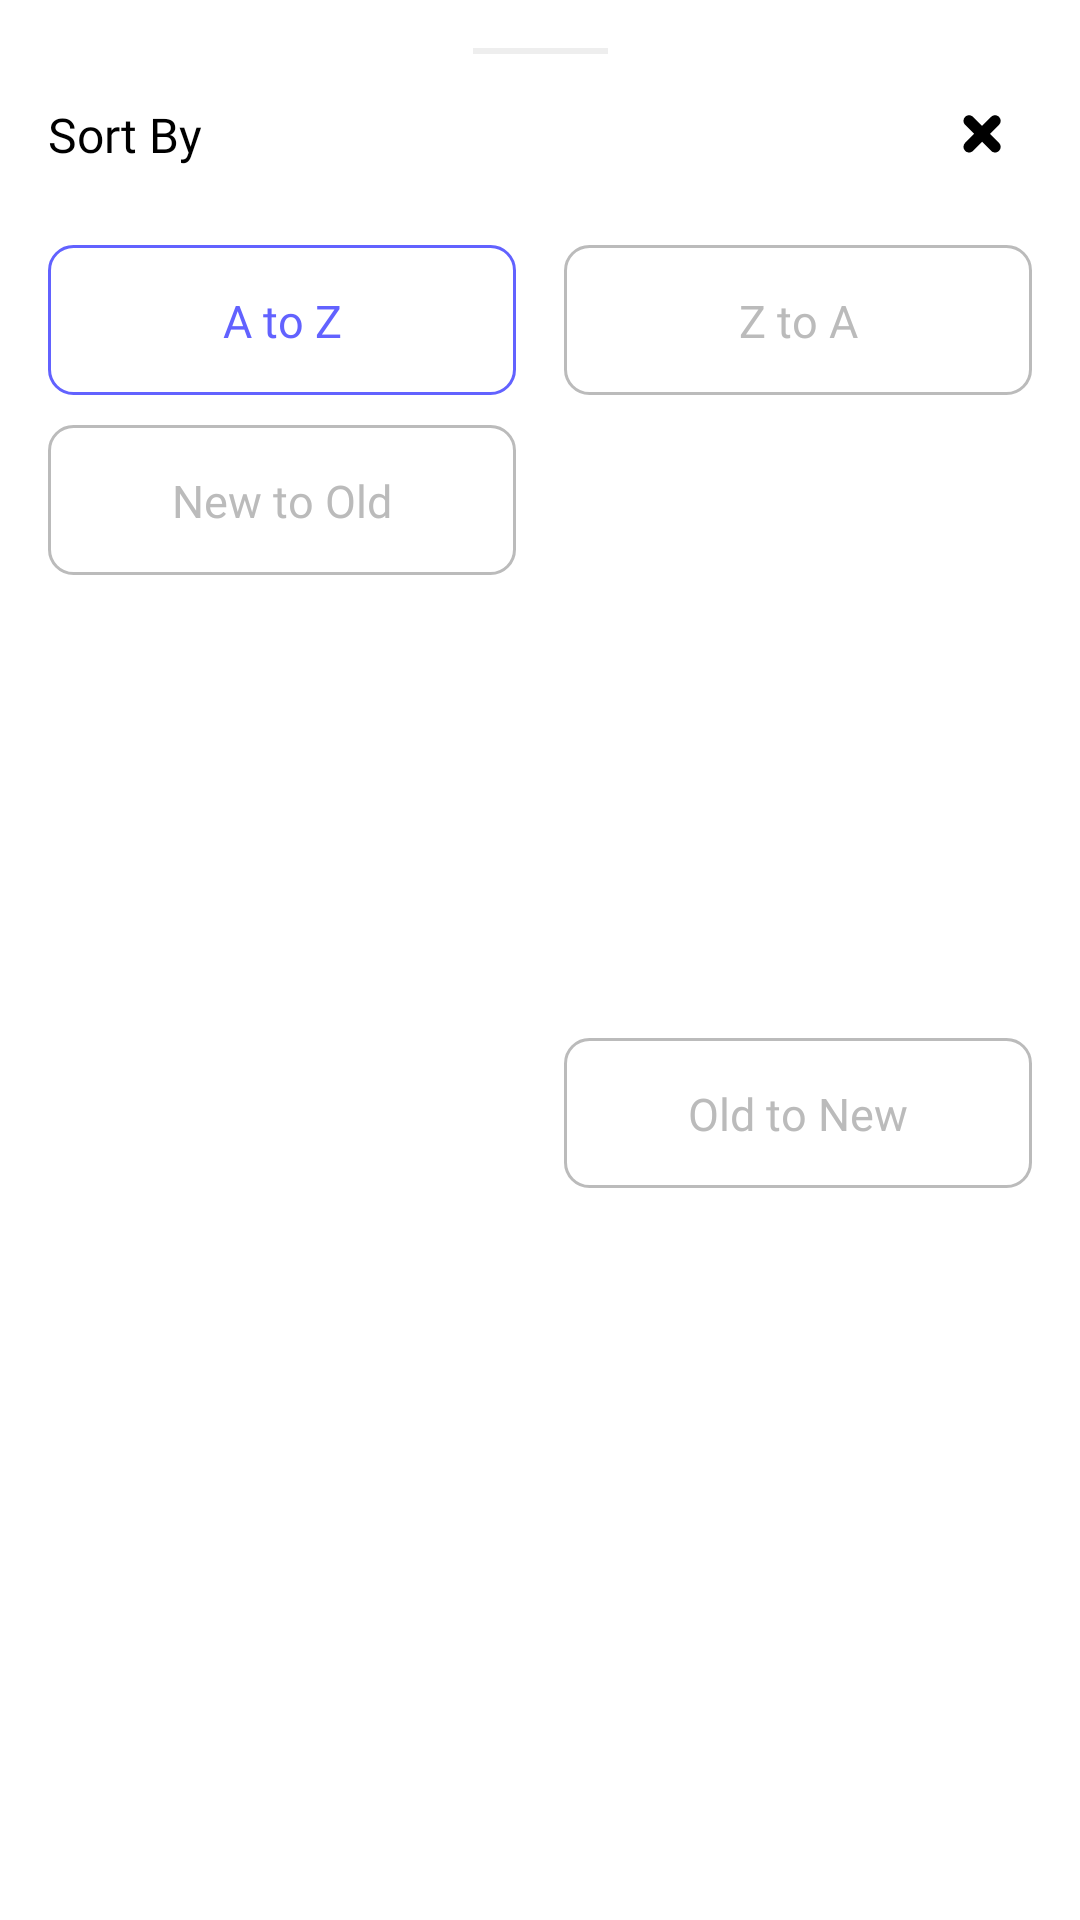

Icon click points for this 1080×1920 phone screenshot, format (x=x, y=y):
close: (x=982, y=134)
